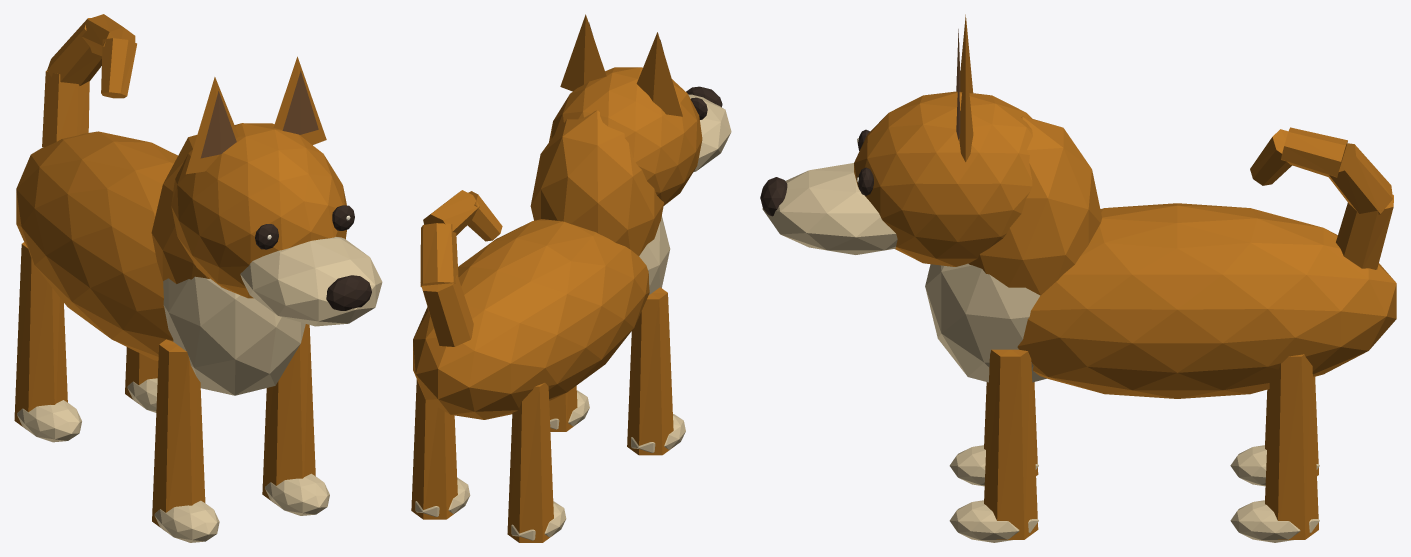
Rendered from low-poly-dog.glb.
3 renders of one model, left to right at view 1: azimuth 30°, elevation 25°; view 2: azimuth 150°, elevation 25°; view 3: azimuth 270°, elevation 25°, orthographic. The views are drawn at different scales.
Parts seen in each view (by area): view 1: dog-body-mesh, dog-head-mesh, dog-chest-mesh, dog-muzzle-mesh, dog-leg-front-left-shaft-mesh, dog-leg-rear-left-shaft-mesh, dog-leg-front-right-shaft-mesh, dog-neck-mesh, dog-tail-segment-1-mesh, dog-leg-front-left-foot-shape-mesh, dog-leg-rear-left-foot-shape-mesh, dog-leg-front-right-foot-shape-mesh (+12 smaller); view 2: dog-body-mesh, dog-neck-mesh, dog-head-mesh, dog-leg-front-left-shaft-mesh, dog-leg-rear-left-shaft-mesh, dog-leg-rear-right-shaft-mesh, dog-tail-segment-1-mesh, dog-tail-segment-2-mesh, dog-ear-left-outer-mesh, dog-ear-right-outer-mesh, dog-muzzle-mesh, dog-tail-segment-3-mesh (+7 smaller); view 3: dog-body-mesh, dog-head-mesh, dog-neck-mesh, dog-chest-mesh, dog-leg-front-right-shaft-mesh, dog-leg-rear-right-shaft-mesh, dog-muzzle-mesh, dog-tail-segment-2-mesh, dog-tail-segment-1-mesh, dog-tail-segment-3-mesh, dog-leg-front-right-foot-shape-mesh, dog-leg-rear-right-foot-shape-mesh (+5 smaller).
Boxes of the visible parts, x1,y1,x2,y2 form: dog-body-mesh: (16,131,177,360); dog-head-mesh: (171,123,346,298); dog-chest-mesh: (163,276,305,395); dog-muzzle-mesh: (240,237,382,326); dog-leg-front-left-shaft-mesh: (152,339,205,530); dog-leg-rear-left-shaft-mesh: (14,242,67,429); dog-leg-front-right-shaft-mesh: (262,324,315,503); dog-neck-mesh: (151,135,209,283); dog-tail-segment-1-mesh: (42,70,89,147); dog-leg-front-left-foot-shape-mesh: (154,500,219,542); dog-leg-rear-left-foot-shape-mesh: (17,400,81,442); dog-leg-front-right-foot-shape-mesh: (265,473,329,515); dog-body-mesh: (413,219,649,419); dog-neck-mesh: (530,110,663,255); dog-head-mesh: (549,67,702,205); dog-leg-front-left-shaft-mesh: (627,287,673,455); dog-leg-rear-left-shaft-mesh: (507,383,553,542); dog-leg-rear-right-shaft-mesh: (411,379,457,519); dog-tail-segment-1-mesh: (421,275,473,346); dog-tail-segment-2-mesh: (420,223,458,286); dog-ear-left-outer-mesh: (636,32,682,116); dog-ear-right-outer-mesh: (560,14,606,91); dog-muzzle-mesh: (688,94,731,171); dog-tail-segment-3-mesh: (423,190,479,235); dog-body-mesh: (1017,203,1396,398); dog-head-mesh: (854,91,1032,266); dog-neck-mesh: (968,116,1101,295); dog-chest-mesh: (925,263,1046,382); dog-leg-front-right-shaft-mesh: (984,349,1038,539); dog-leg-rear-right-shaft-mesh: (1265,354,1318,539); dog-muzzle-mesh: (762,163,897,254); dog-tail-segment-2-mesh: (1329,143,1392,214); dog-tail-segment-1-mesh: (1336,195,1393,269); dog-tail-segment-3-mesh: (1281,127,1347,177); dog-leg-front-right-foot-shape-mesh: (949,500,1038,542); dog-leg-rear-right-foot-shape-mesh: (1230,500,1319,542).
Bounding box in the file's own units: 0.3781 × 0.9986 × 1.21.
